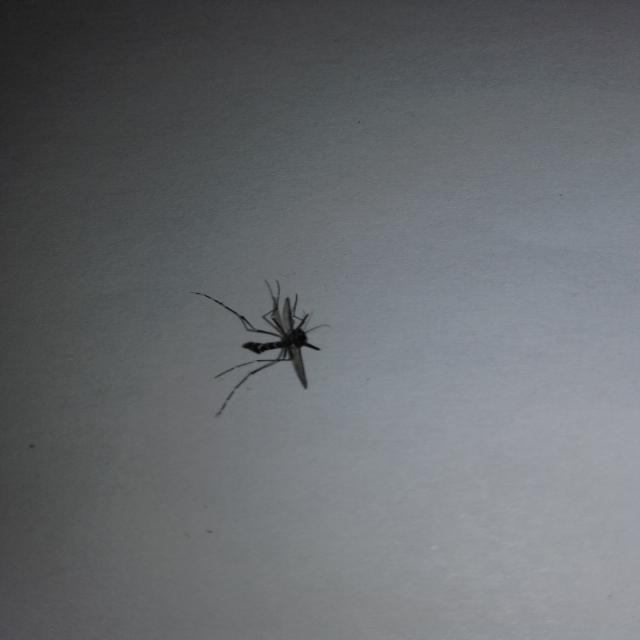albopictus: (184, 272, 334, 421)
